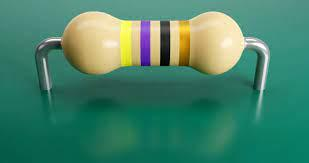resistor: (61, 11, 245, 77)
